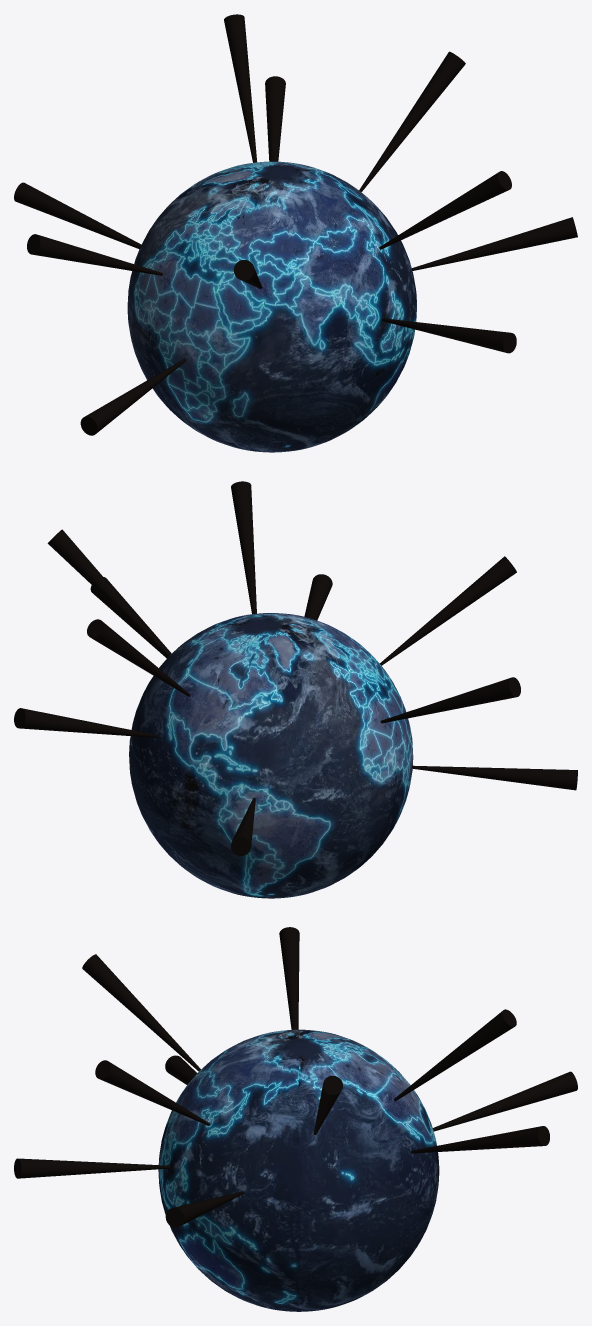
The model's file is Earth_0719_2-transformed.glb.
3 views of the same model, one above another, from view 1: azimuth 30°, elevation 25°; view 2: azimuth 150°, elevation 25°; view 3: azimuth 270°, elevation 25° (orthographic). The views are drawn at different scales.
Visible parts, largest first — view 1: Earth, Algeria.005, Algeria.006, Algeria.008, Algeria.009, Korea, Algeria, Algeria.003, Algeria.001, Algeria.007; view 2: Earth, Algeria.001, Algeria.002, Algeria.006, Korea, Algeria, Algeria.007, Algeria.008, Algeria.003, Algeria.009, Algeria.005; view 3: Earth, Algeria.002, Algeria.003, Algeria.009, Algeria.008, Algeria.007, Korea, Algeria, Algeria.005, Algeria.006, Algeria.001.
Boxes of the visible parts, x1=… form: Earth: x1=127, y1=161, x2=416, y2=452; Algeria.005: x1=411, y1=217, x2=577, y2=270; Algeria.006: x1=359, y1=51, x2=465, y2=191; Algeria.008: x1=224, y1=14, x2=256, y2=162; Algeria.009: x1=14, y1=182, x2=141, y2=249; Korea: x1=379, y1=171, x2=511, y2=249; Algeria: x1=27, y1=234, x2=162, y2=275; Algeria.003: x1=381, y1=318, x2=516, y2=353; Algeria.001: x1=80, y1=358, x2=186, y2=435; Algeria.007: x1=265, y1=76, x2=285, y2=161; Earth: x1=129, y1=613, x2=413, y2=898; Algeria.001: x1=412, y1=765, x2=577, y2=790; Algeria.002: x1=380, y1=556, x2=516, y2=665; Algeria.006: x1=47, y1=529, x2=170, y2=656; Korea: x1=231, y1=481, x2=256, y2=613; Algeria: x1=380, y1=677, x2=520, y2=723; Algeria.007: x1=14, y1=708, x2=156, y2=737; Algeria.008: x1=87, y1=619, x2=190, y2=696; Algeria.003: x1=304, y1=574, x2=332, y2=620; Algeria.009: x1=230, y1=797, x2=255, y2=855; Algeria.005: x1=90, y1=577, x2=171, y2=658; Earth: x1=158, y1=1029, x2=439, y2=1311; Algeria.002: x1=82, y1=954, x2=200, y2=1071; Algeria.003: x1=14, y1=1158, x2=170, y2=1178; Algeria.009: x1=433, y1=1071, x2=577, y2=1131; Algeria.008: x1=394, y1=1009, x2=516, y2=1101; Algeria.007: x1=411, y1=1126, x2=549, y2=1153; Korea: x1=95, y1=1060, x2=209, y2=1125; Algeria: x1=279, y1=927, x2=299, y2=1029; Algeria.005: x1=165, y1=1191, x2=244, y2=1227; Algeria.006: x1=313, y1=1075, x2=342, y2=1134; Algeria.001: x1=165, y1=1055, x2=197, y2=1084.
Size of the model in its own units: 3.89 by 2.49 by 3.96.
Materials: 2 (1 with a texture image).
